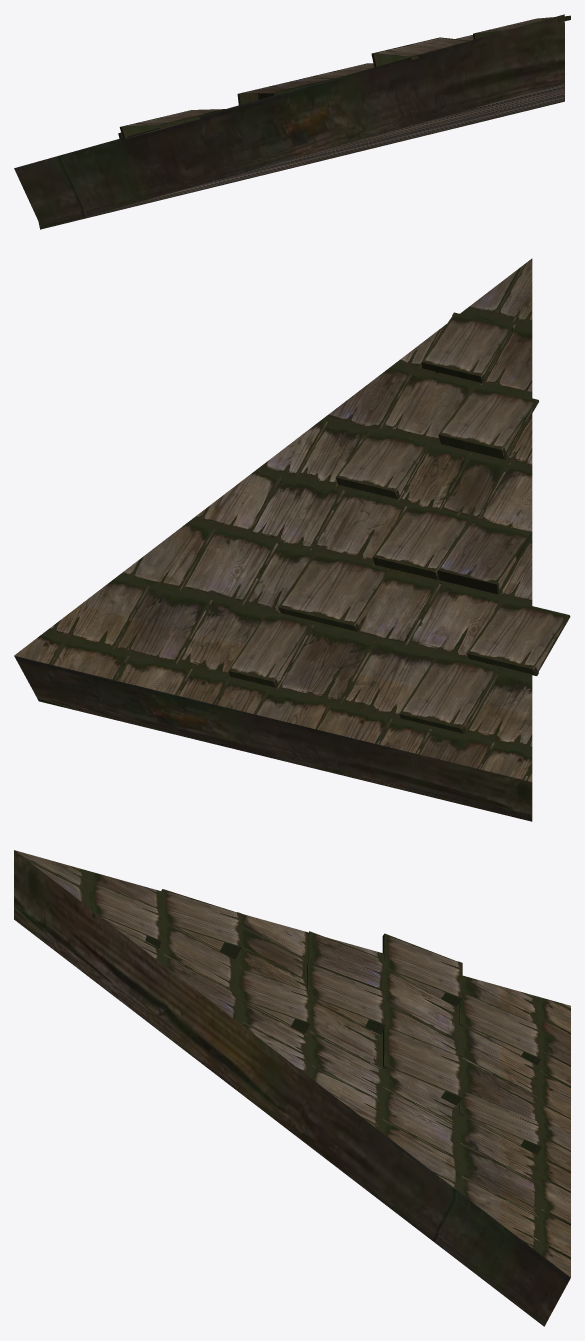
3 renders of one model, top to bottom at view 1: azimuth 30°, elevation 25°; view 2: azimuth 150°, elevation 25°; view 3: azimuth 270°, elevation 25°, orthographic. The views are drawn at different scales.
Visible parts, largest first — view 1: SM_BB_T1_Roof_Triangle_Shallow_Large_Inverted_LOD0; view 2: SM_BB_T1_Roof_Triangle_Shallow_Large_Inverted_LOD0; view 3: SM_BB_T1_Roof_Triangle_Shallow_Large_Inverted_LOD0.
Boxes of the visible parts, bbox=[...] form: SM_BB_T1_Roof_Triangle_Shallow_Large_Inverted_LOD0: bbox=[14, 14, 570, 229]; SM_BB_T1_Roof_Triangle_Shallow_Large_Inverted_LOD0: bbox=[14, 258, 570, 821]; SM_BB_T1_Roof_Triangle_Shallow_Large_Inverted_LOD0: bbox=[14, 850, 570, 1326].
Size of the model in its own units: 3.15 by 1.87 by 2.73.
3 materials, 3 textured.
